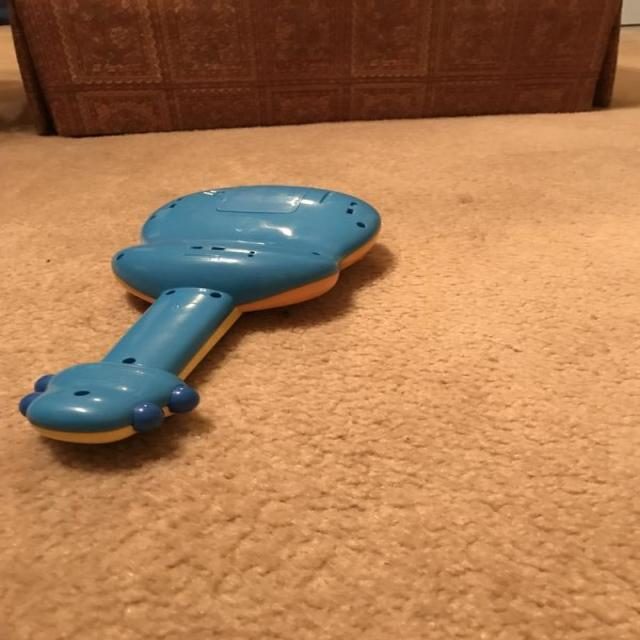toy: (16, 164, 382, 440)
